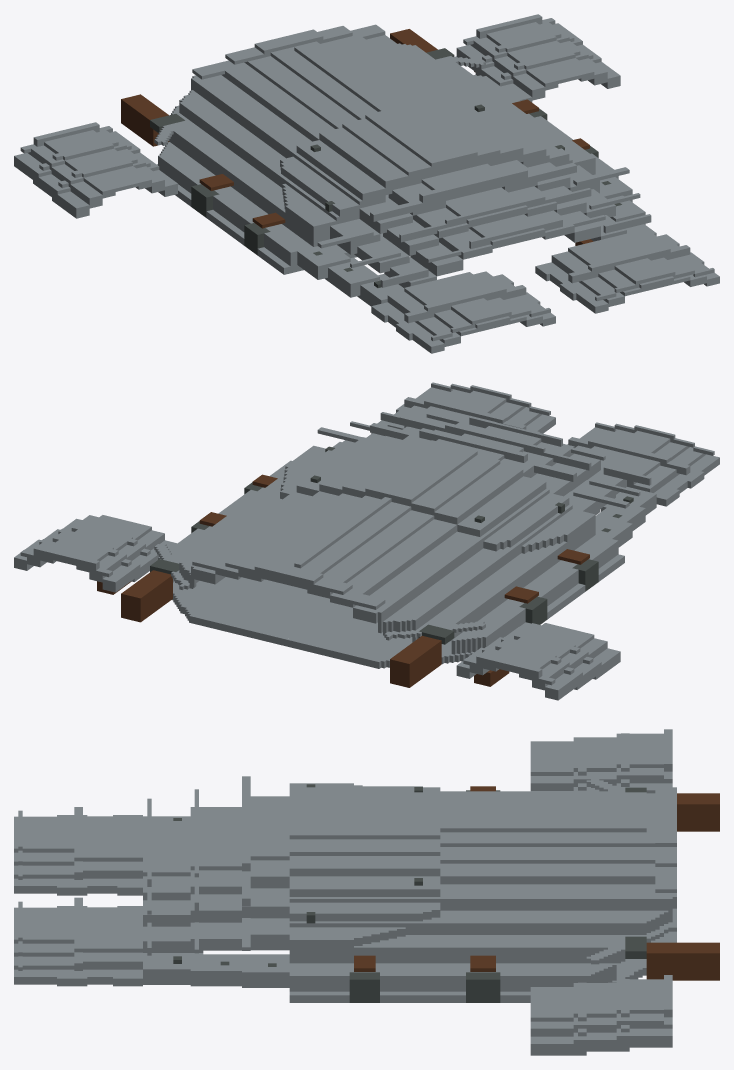
Rendered from armor_mc_heavy_chestplate.glb.
3 views of the same model, one above another, from view 1: azimuth 30°, elevation 25°; view 2: azimuth 150°, elevation 25°; view 3: azimuth 270°, elevation 25° (orthographic). The views are drawn at different scales.
Visible parts, largest first — view 1: armor_mc_heavy_chestplate:compound; view 2: armor_mc_heavy_chestplate:compound; view 3: armor_mc_heavy_chestplate:compound.
Part boxes in pixels (left/top/right/bottom): armor_mc_heavy_chestplate:compound: left=14, top=14, right=719, bottom=353; armor_mc_heavy_chestplate:compound: left=14, top=382, right=719, bottom=700; armor_mc_heavy_chestplate:compound: left=14, top=729, right=719, bottom=1055.
Size of the model in its own units: 0.664 by 0.088 by 0.656.
